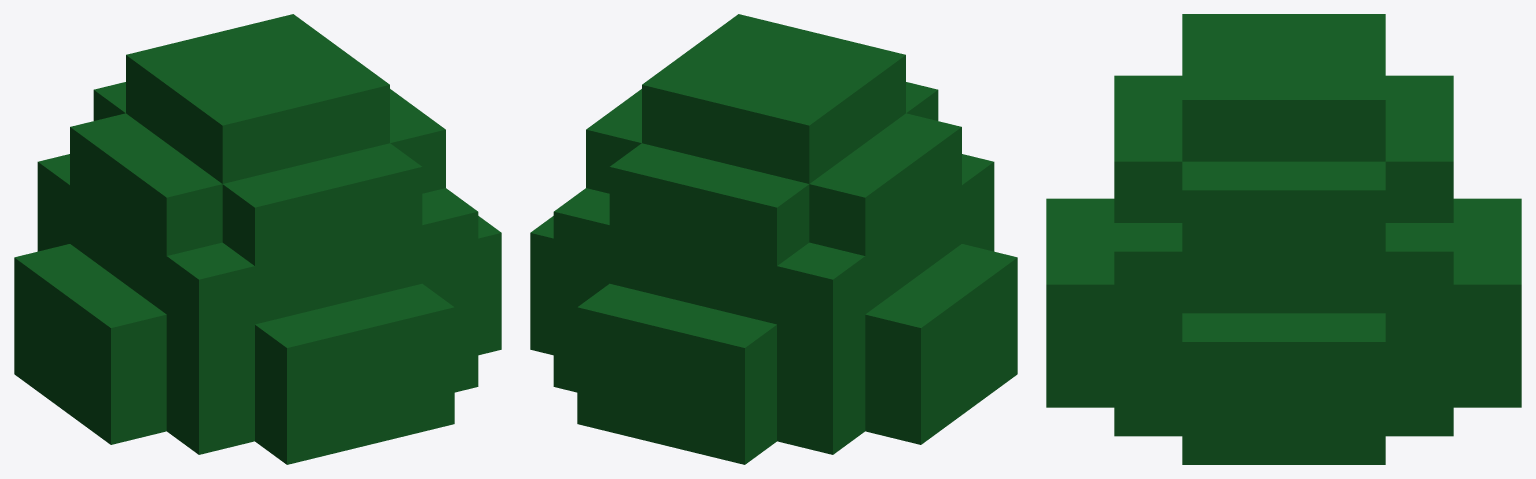
Rendered from bush_3.obj.
3 renders of one model, left to right at view 1: azimuth 30°, elevation 25°; view 2: azimuth 150°, elevation 25°; view 3: azimuth 270°, elevation 25°, orthographic. The views are drawn at different scales.
Size of the model in its own units: 0.7 by 0.5 by 0.7.
1 material, 1 textured.
